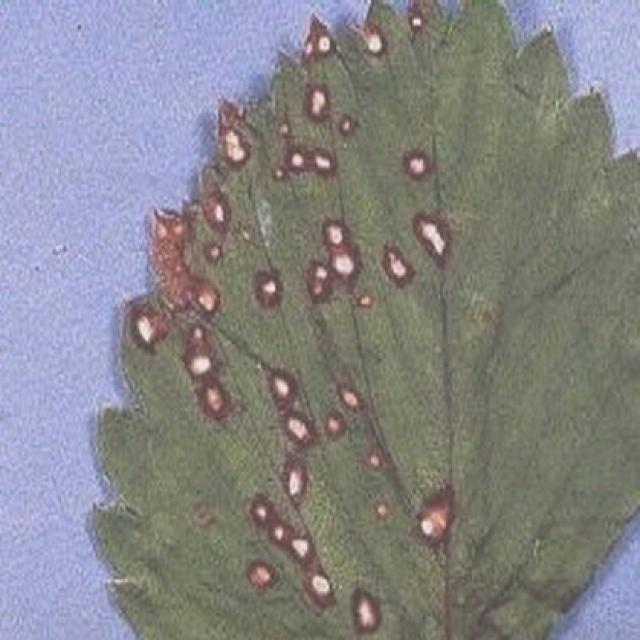Leaf Spot: (86, 0, 638, 638)
